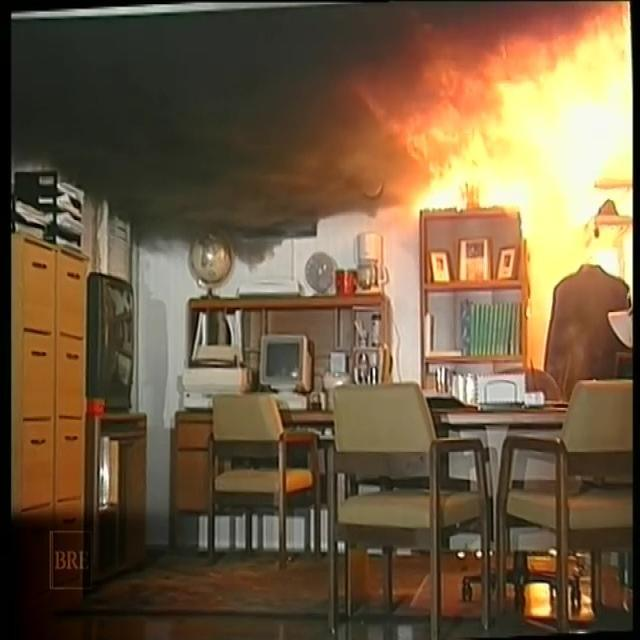Fire: (348, 8, 640, 297)
